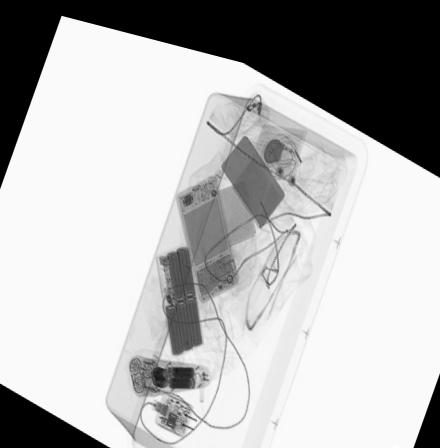Powerbank: (152, 231, 203, 350)
